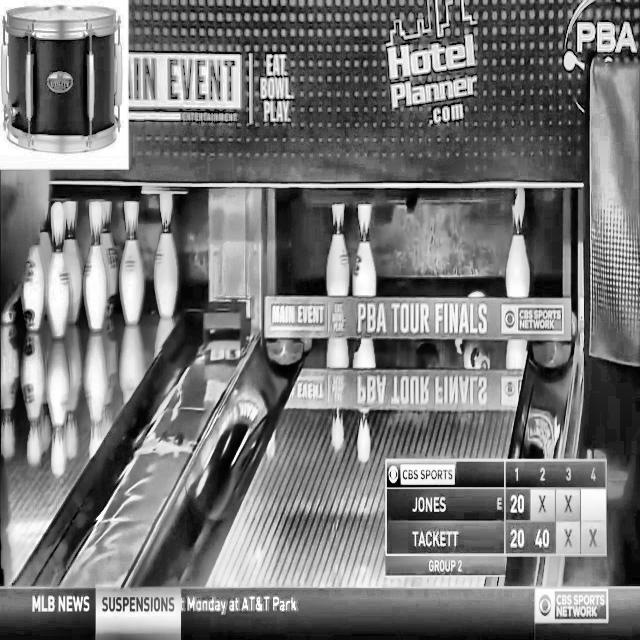bowling-pins: (507, 187, 531, 297), (352, 204, 377, 296), (326, 204, 350, 295)
